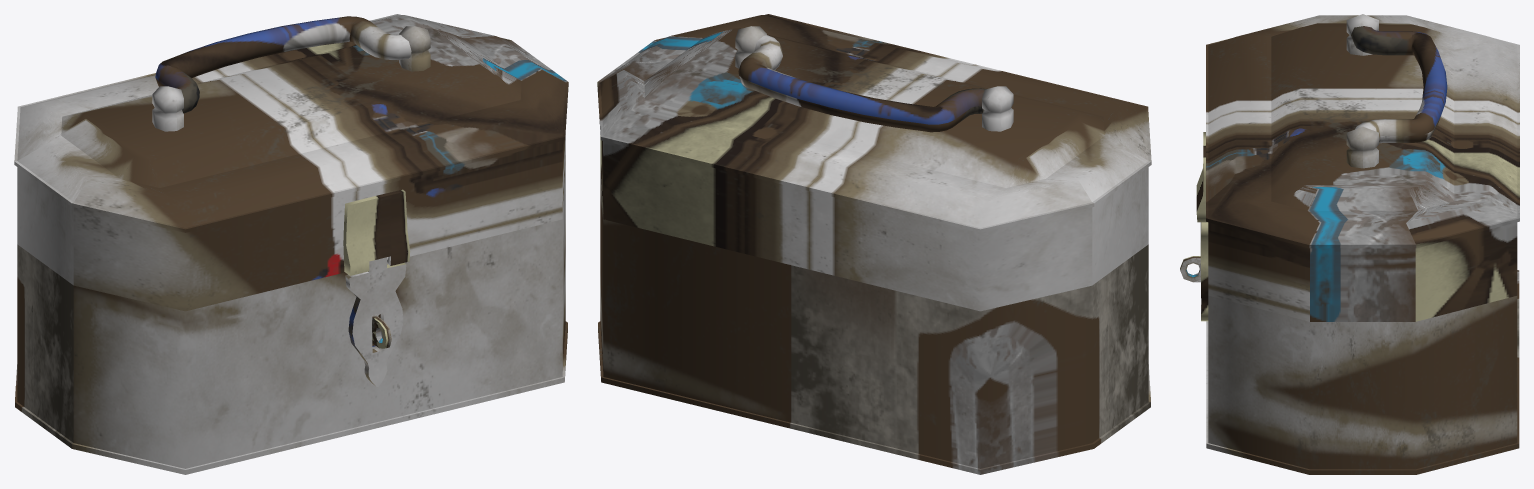
File: SecreteBox.fbx
3 renders of one model, left to right at view 1: azimuth 30°, elevation 25°; view 2: azimuth 150°, elevation 25°; view 3: azimuth 270°, elevation 25°, orthographic. The views are drawn at different scales.
Visible parts, largest first — view 1: Cylinder.001, Cylinder, Cylinder.003; view 2: Cylinder.001, Cylinder; view 3: Cylinder.001, Cylinder, Cylinder.003.
Boxes of the visible parts, x1=… form: Cylinder.001: x1=14, y1=14, x2=568, y2=311; Cylinder: x1=15, y1=167, x2=567, y2=474; Cylinder.003: x1=345, y1=257, x2=406, y2=387; Cylinder.001: x1=597, y1=14, x2=1151, y2=311; Cylinder: x1=598, y1=167, x2=1150, y2=474; Cylinder.001: x1=1196, y1=14, x2=1519, y2=321; Cylinder: x1=1180, y1=256, x2=1519, y2=474; Cylinder.003: x1=1200, y1=222, x2=1208, y2=321.
Size of the model in its own units: 27.12 by 16.23 by 17.15.
